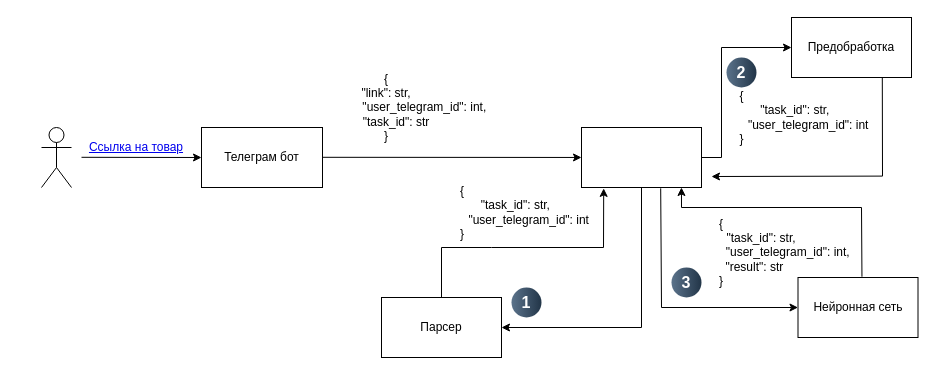
Some shapes in this 936 by 375 pixel diagram are drawn without their labels. Here are the shapes that lost their labels. From the top down, the centre of each, then its label:
At [56,157]: "Пользователь".
At [641,157]: "Брокер сообщений (RabbitMQ)".
